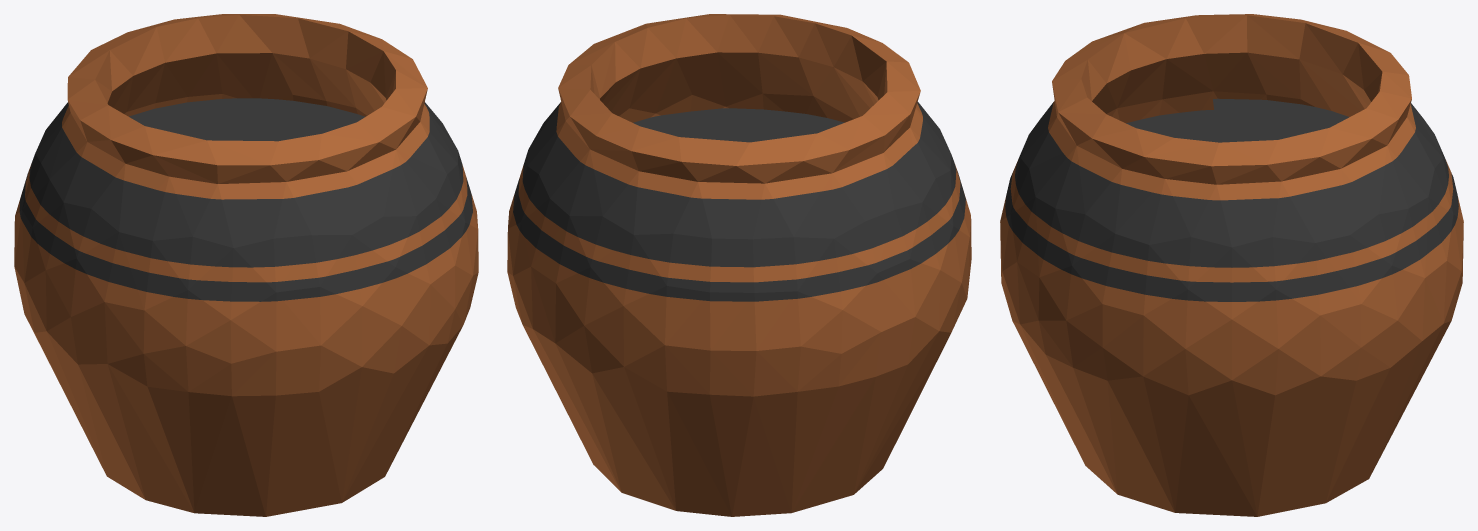
The model's file is Pottery 10_1.fbx.
3 views of the same model, side by side, from view 1: azimuth 30°, elevation 25°; view 2: azimuth 150°, elevation 25°; view 3: azimuth 270°, elevation 25° (orthographic).
Parts seen in each view (by area): view 1: Pottery 10_1a; view 2: Pottery 10_1a; view 3: Pottery 10_1a.
Part boxes in pixels (left/top/right/bottom): Pottery 10_1a: left=14, top=14, right=478, bottom=516; Pottery 10_1a: left=507, top=14, right=971, bottom=516; Pottery 10_1a: left=1000, top=14, right=1463, bottom=516.
Size of the model in its own units: 71.99 by 64.48 by 71.99.
